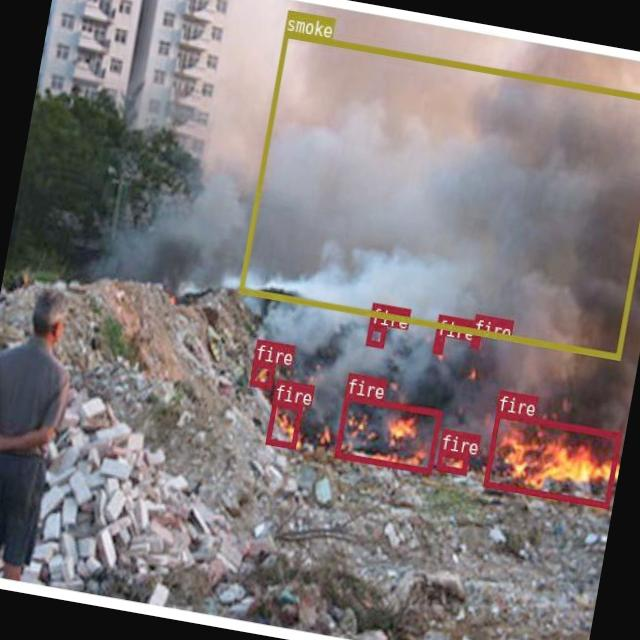fire: (482, 410, 621, 508), (334, 393, 441, 472), (264, 398, 302, 448), (436, 448, 468, 474), (248, 359, 274, 387), (366, 323, 386, 346), (431, 334, 444, 352), (470, 334, 480, 346)
smoke: (238, 30, 640, 358)
